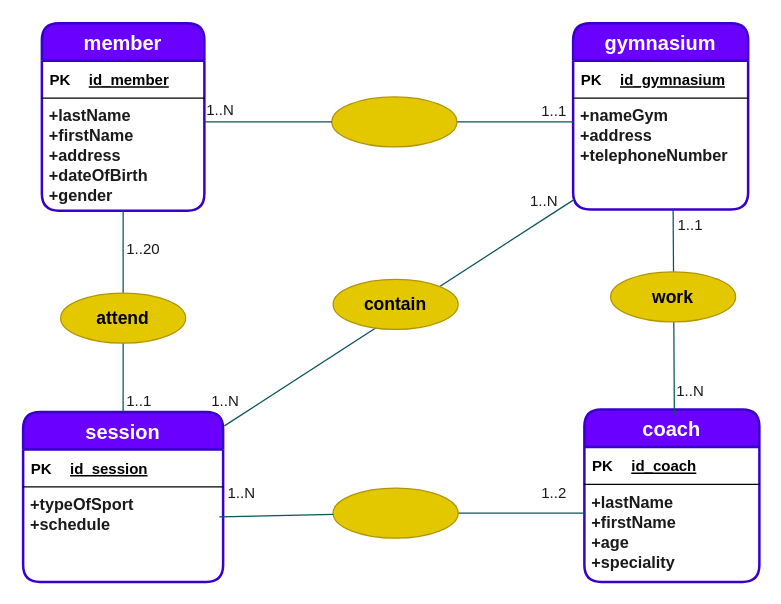
This 781x604 diagram has some shape labels left out. The shapes that lost their labels are listed below. From the top down, each one's box as (x1, y1, x2, y2) in pixels, then its label:
(331, 96, 457, 147): register
(332, 487, 458, 538): led
